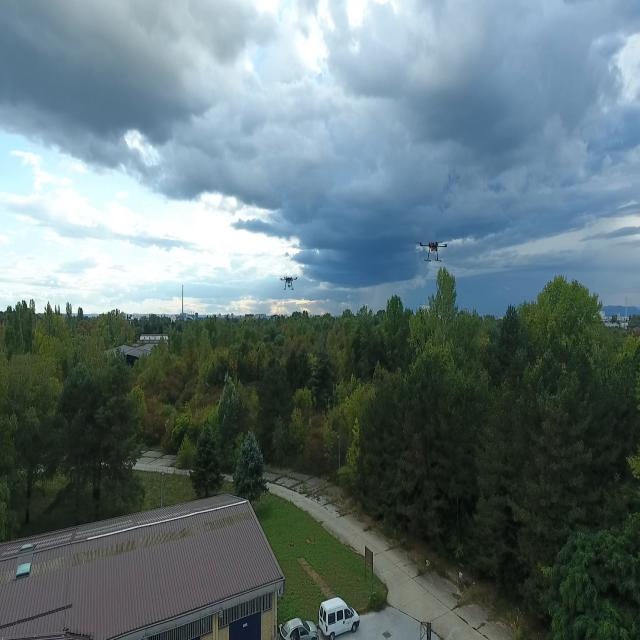UAV: (270, 268, 308, 295), (413, 238, 453, 261)
